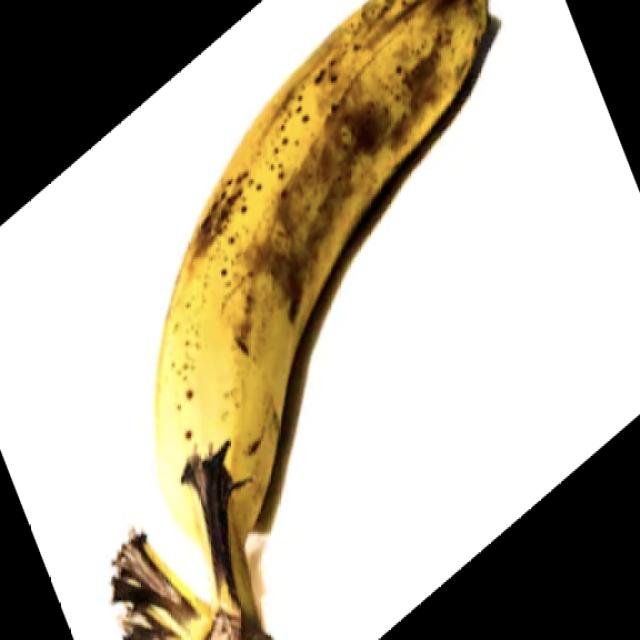overripe: (149, 0, 489, 640)
